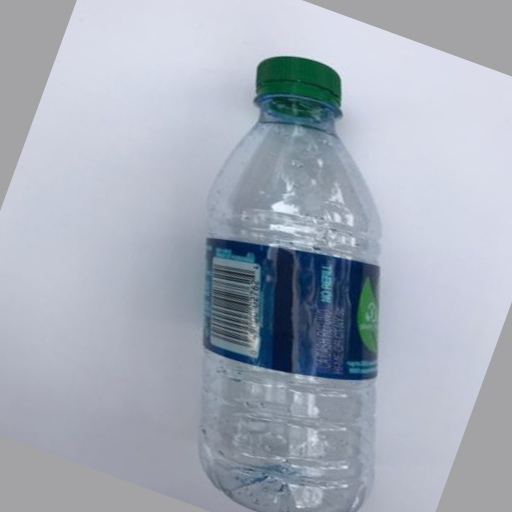Plastic_0: (201, 53, 375, 509)
